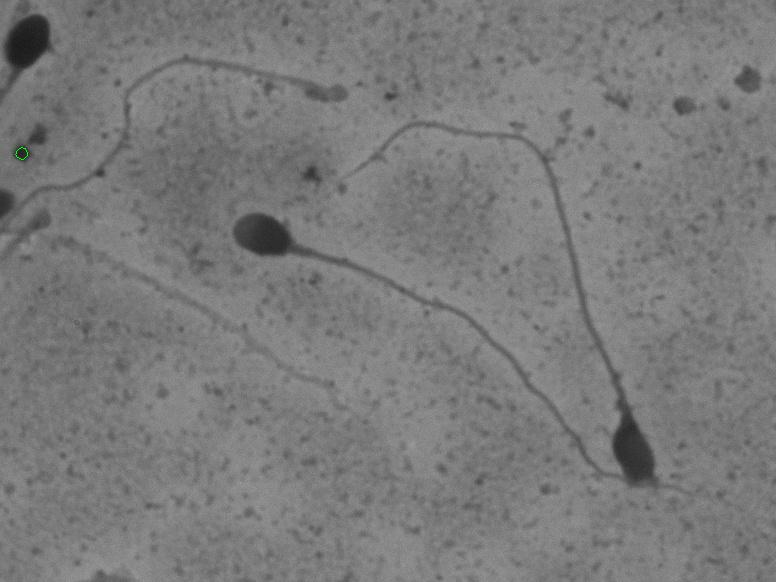Abnormal: (546, 239, 715, 502)
Normal: (211, 195, 692, 509)
